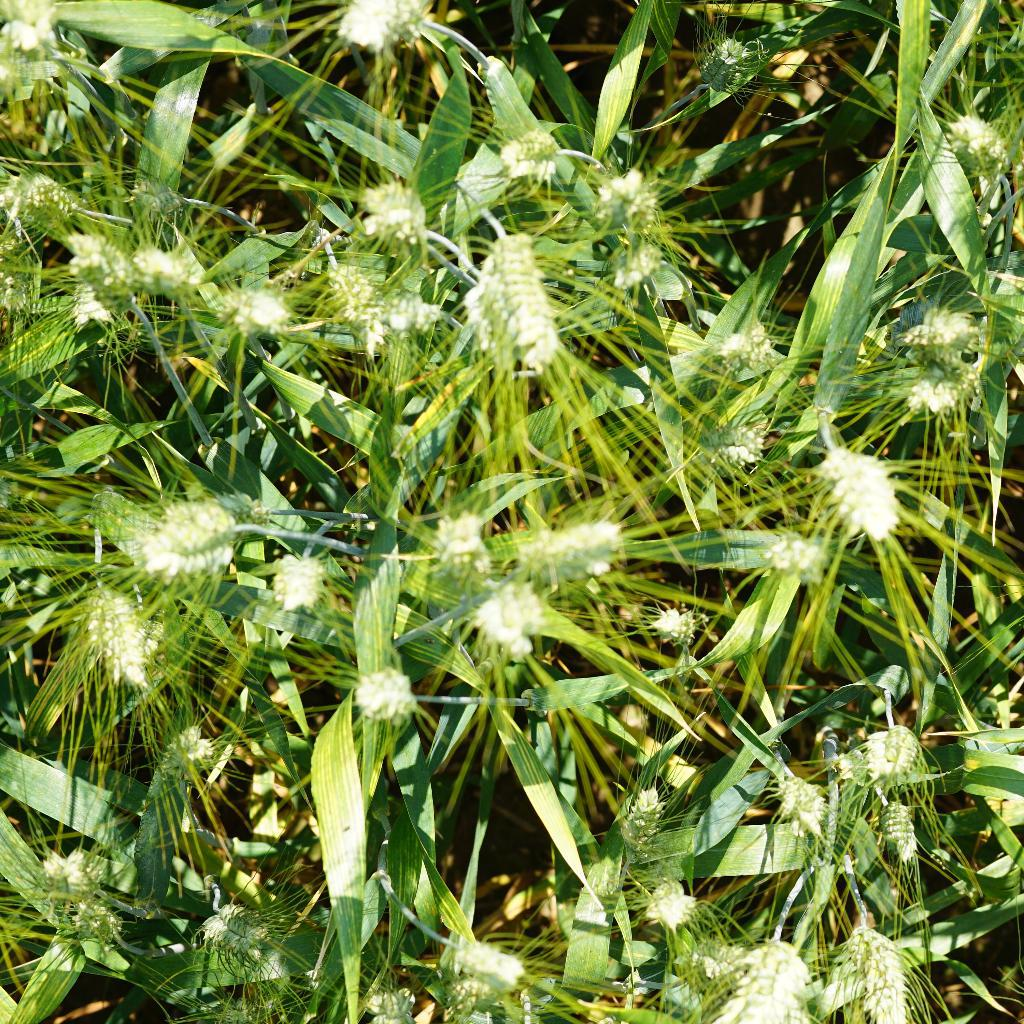0-0: (464, 217, 576, 362), (75, 583, 172, 701), (815, 423, 905, 545), (33, 841, 127, 952), (837, 911, 925, 1024), (698, 927, 800, 1024), (133, 485, 249, 570), (732, 523, 851, 598), (501, 518, 634, 578), (894, 369, 1006, 429), (307, 260, 392, 339), (210, 275, 305, 344), (58, 231, 142, 309), (892, 302, 993, 365), (0, 163, 88, 234), (950, 105, 1016, 198), (415, 505, 499, 578), (769, 761, 834, 848), (707, 388, 774, 470), (473, 582, 549, 654), (0, 253, 63, 337), (133, 235, 202, 311), (195, 905, 283, 963), (859, 718, 930, 789), (352, 666, 432, 728), (153, 710, 221, 781), (352, 183, 429, 245), (55, 899, 137, 956), (335, 0, 428, 48), (580, 157, 656, 215), (692, 30, 765, 90), (602, 225, 672, 286), (626, 586, 697, 646), (264, 548, 329, 612), (500, 122, 568, 182), (430, 965, 499, 1024), (707, 318, 780, 372), (874, 799, 929, 867), (118, 168, 186, 220), (0, 0, 66, 51), (64, 279, 119, 337), (352, 983, 429, 1024), (623, 781, 669, 849), (641, 871, 697, 925)
